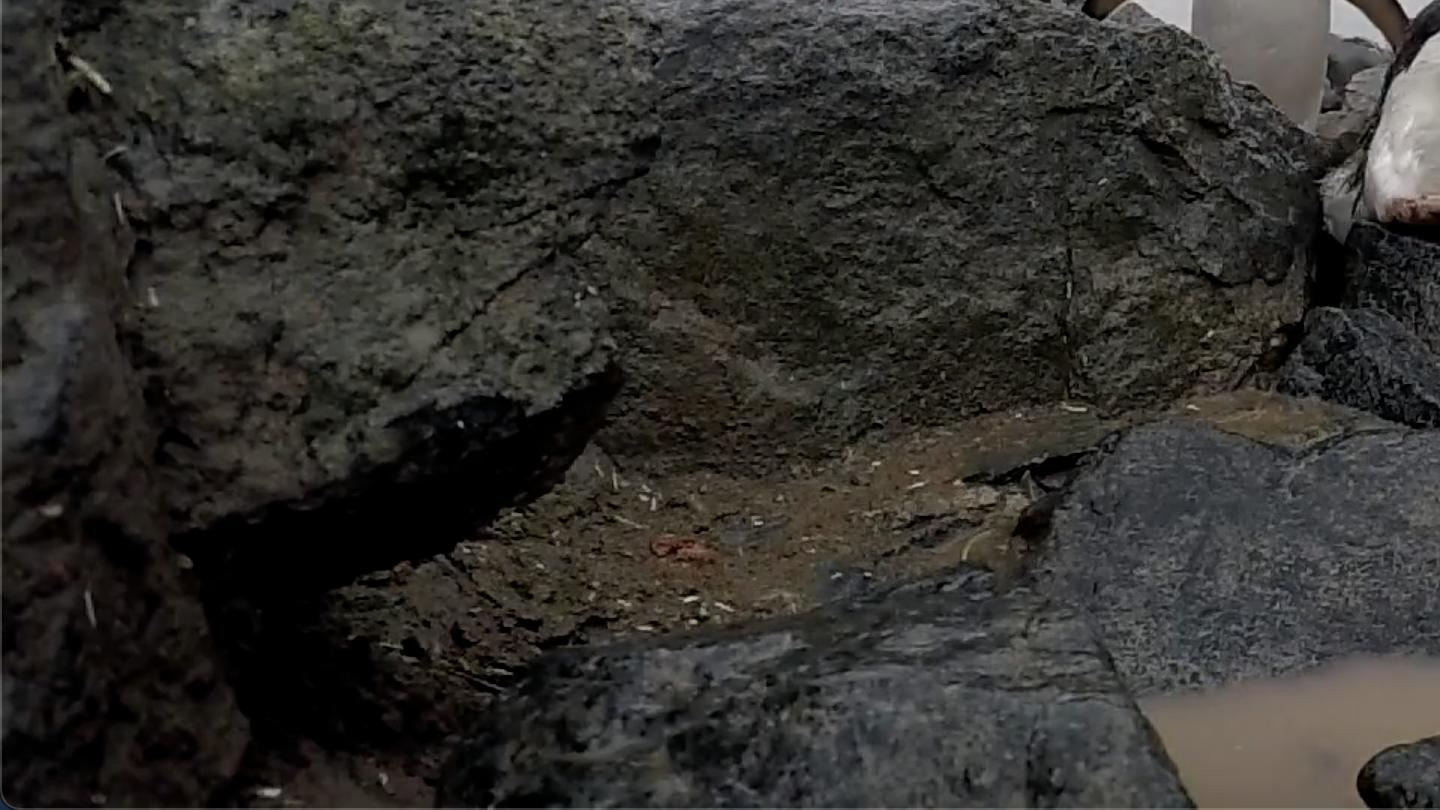Chinstrap Penguin: (1353, 0, 1440, 364), (1078, 0, 1422, 32)
